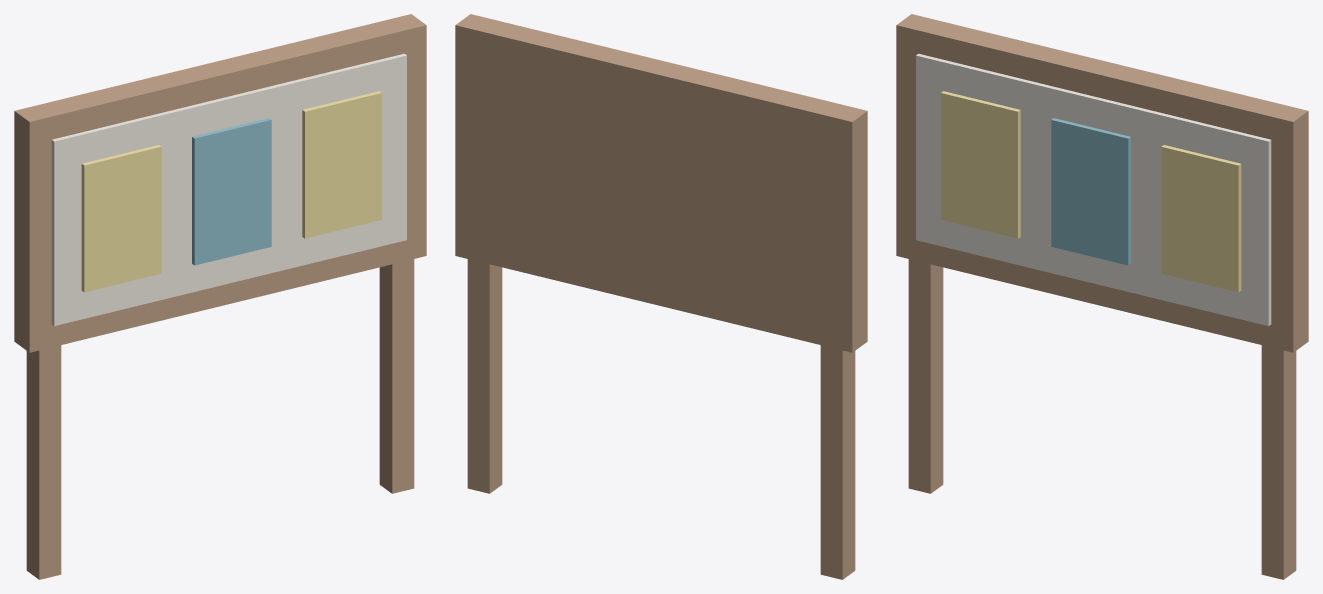
Rendered from notice_board.glb.
The picture shows the model from 3 angles, left to right: view 1: azimuth 30°, elevation 25°; view 2: azimuth 150°, elevation 25°; view 3: azimuth 330°, elevation 25°; orthographic projection.
Parts seen in each view (by area): view 1: notice_board_003, notice_board_002, notice_board_004, notice_board_006, notice_board_005, notice_board_000, notice_board_001; view 2: notice_board_002, notice_board_000, notice_board_001; view 3: notice_board_003, notice_board_002, notice_board_006, notice_board_004, notice_board_005, notice_board_001, notice_board_000.
Part boxes in pixels (left/top/right/bottom): notice_board_003: left=51, top=53, right=406, bottom=326; notice_board_002: left=14, top=14, right=426, bottom=352; notice_board_004: left=81, top=145, right=161, bottom=292; notice_board_006: left=302, top=91, right=381, bottom=238; notice_board_005: left=192, top=118, right=271, bottom=265; notice_board_000: left=26, top=104, right=61, bottom=579; notice_board_001: left=379, top=19, right=414, bottom=493; notice_board_002: left=455, top=14, right=867, bottom=352; notice_board_000: left=820, top=104, right=855, bottom=579; notice_board_001: left=467, top=21, right=502, bottom=493; notice_board_003: left=916, top=53, right=1271, bottom=326; notice_board_002: left=896, top=14, right=1308, bottom=352; notice_board_006: left=1161, top=145, right=1241, bottom=292; notice_board_004: left=941, top=91, right=1020, bottom=238; notice_board_005: left=1051, top=118, right=1130, bottom=265; notice_board_001: left=1261, top=104, right=1296, bottom=579; notice_board_000: left=908, top=25, right=943, bottom=493.
Bounding box in the file's own units: 1.8 × 2 × 0.16.
